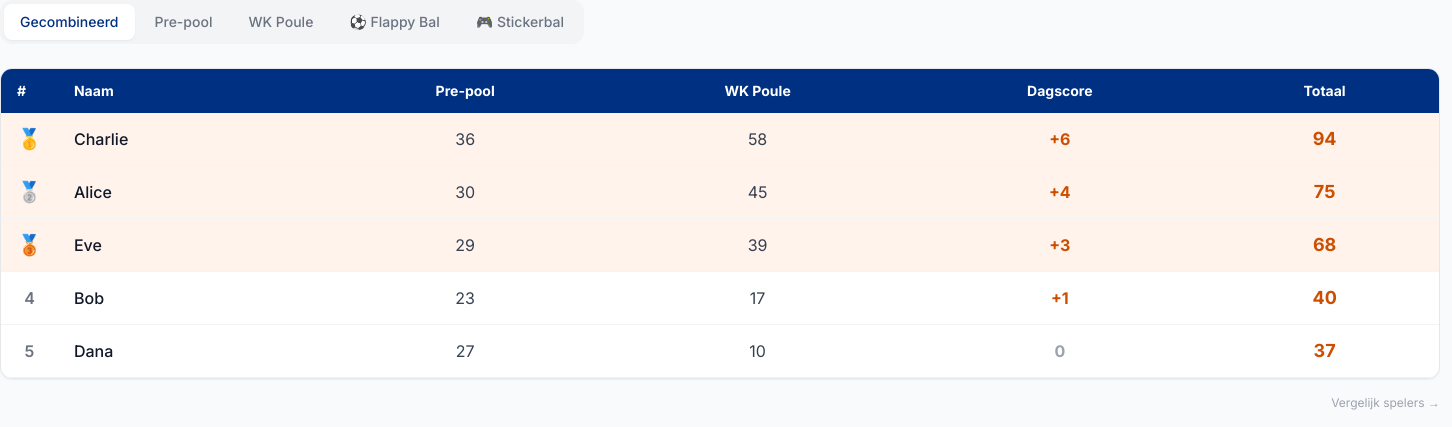
Test case: RanglijstTabs › shows Wedstr./Incidents/Topscorer columns in wk tab when scores visible
The width and height of the screenshot is (1452, 427).
Click the button "WK Poule" at (281, 22), box [232,4,329,40]
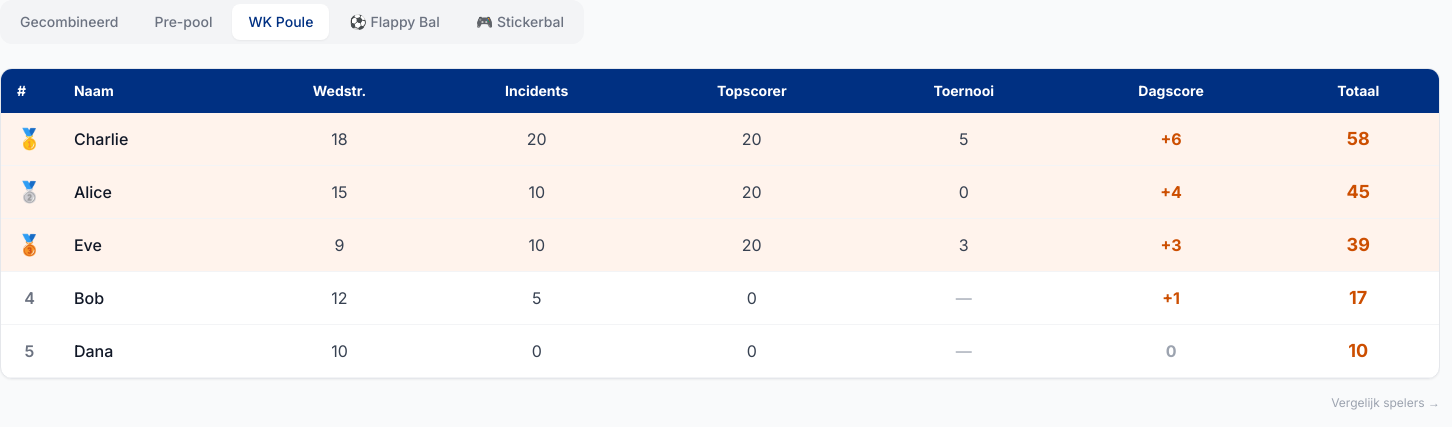
Expected: the column heading "Wedstr." is shown, [246,69,433,113]
Expected: the column heading "Incidents" is shown, [433,69,641,113]
Expected: the column heading "Topscorer" is shown, [641,69,863,113]
